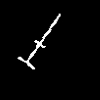double_crochet: (18, 14, 59, 68)
